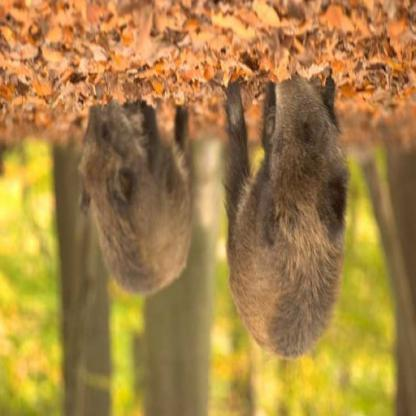boar: (212, 45, 359, 378), (53, 86, 197, 313)
